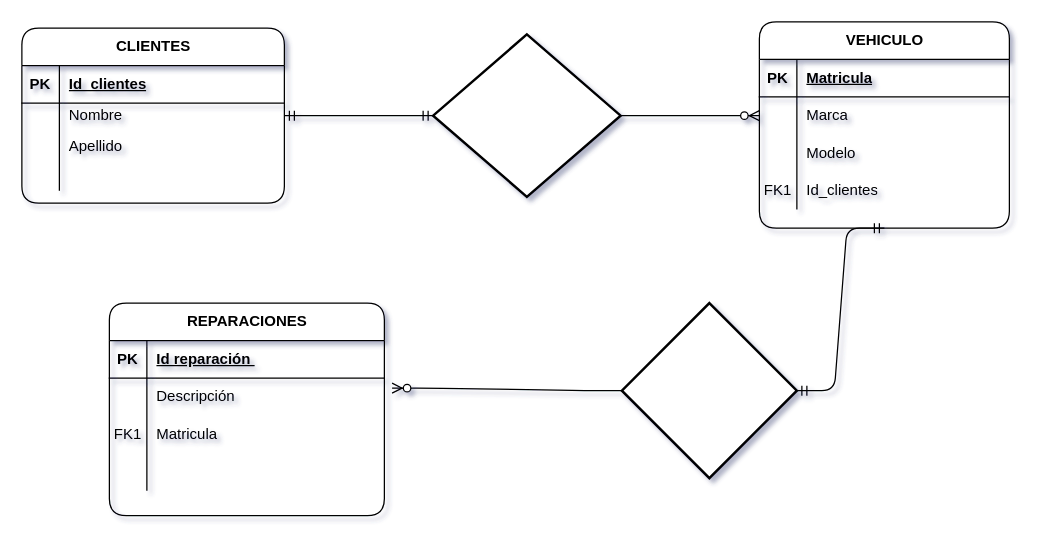
This 1039x545 diagram has some shape labels left out. The shapes that lost their labels are listed below. From the top down, each one's centre as x and y in pixels, then its label:
the point at 526,115: Propietario
the point at 709,390: Vehículos en reparación
